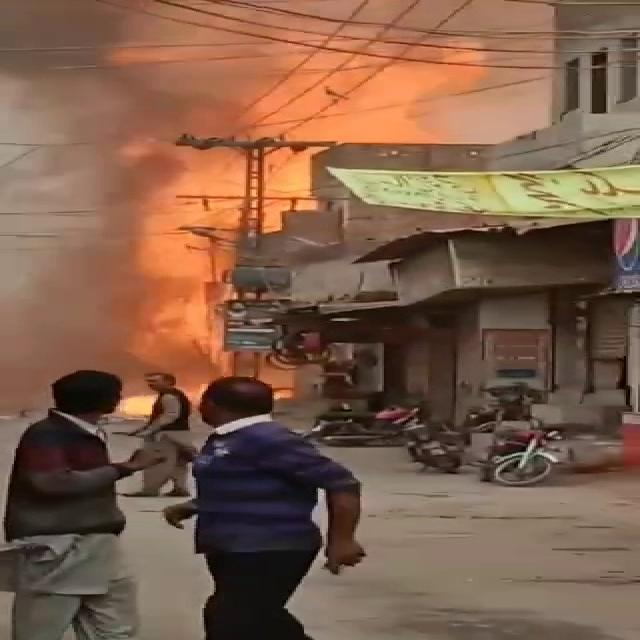Fire: (230, 41, 536, 158), (136, 144, 262, 371), (262, 149, 324, 232)
Smoke: (0, 55, 128, 386)
